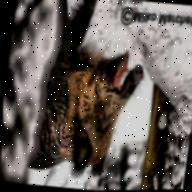boar: (9, 0, 161, 187)
